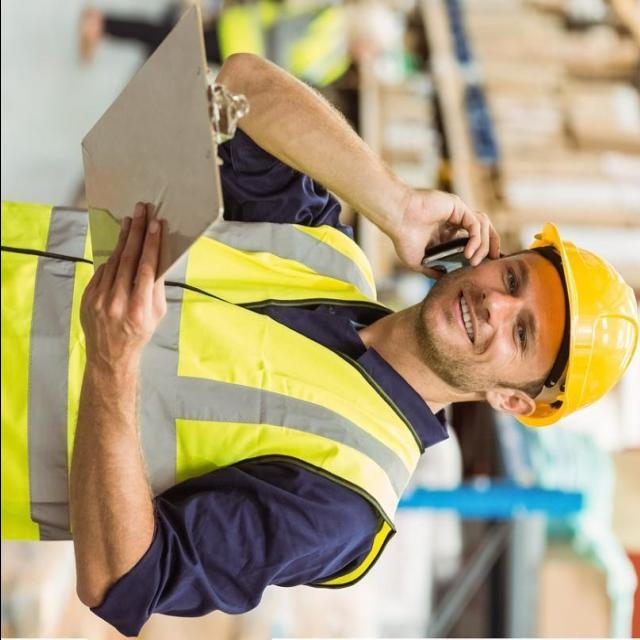helmet: (515, 208, 638, 438)
jacket: (0, 208, 427, 598)
